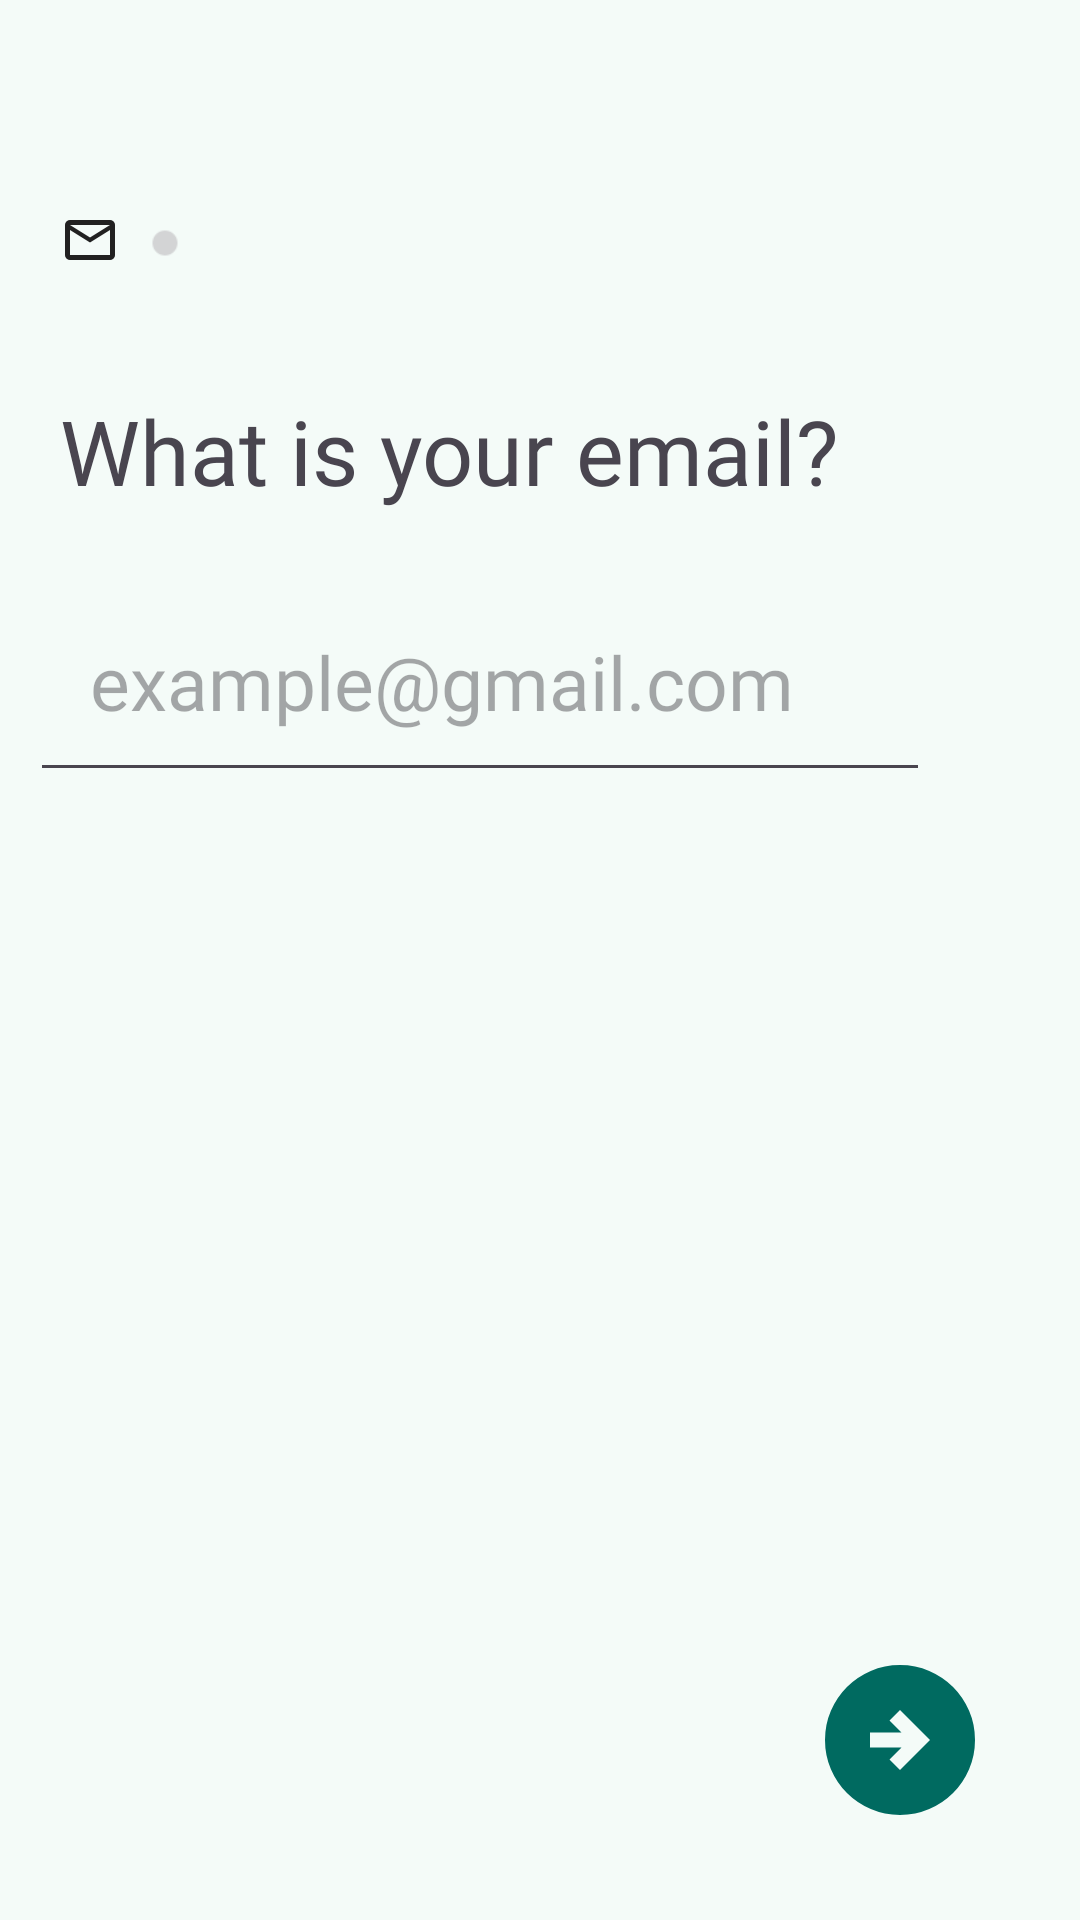

Point at icon controls on the screen. Image size 1080w x 1920h, points as (x,y).
mailth: (90,240)
next: (900,1740)
